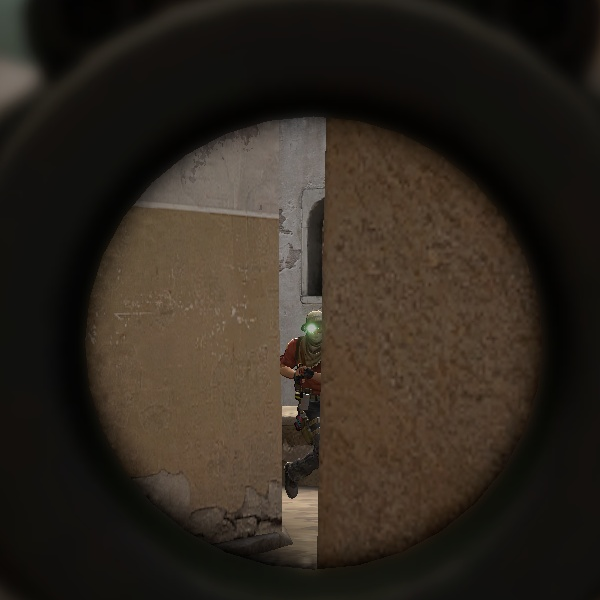t_body: (274, 309, 329, 509), (299, 309, 325, 348)
